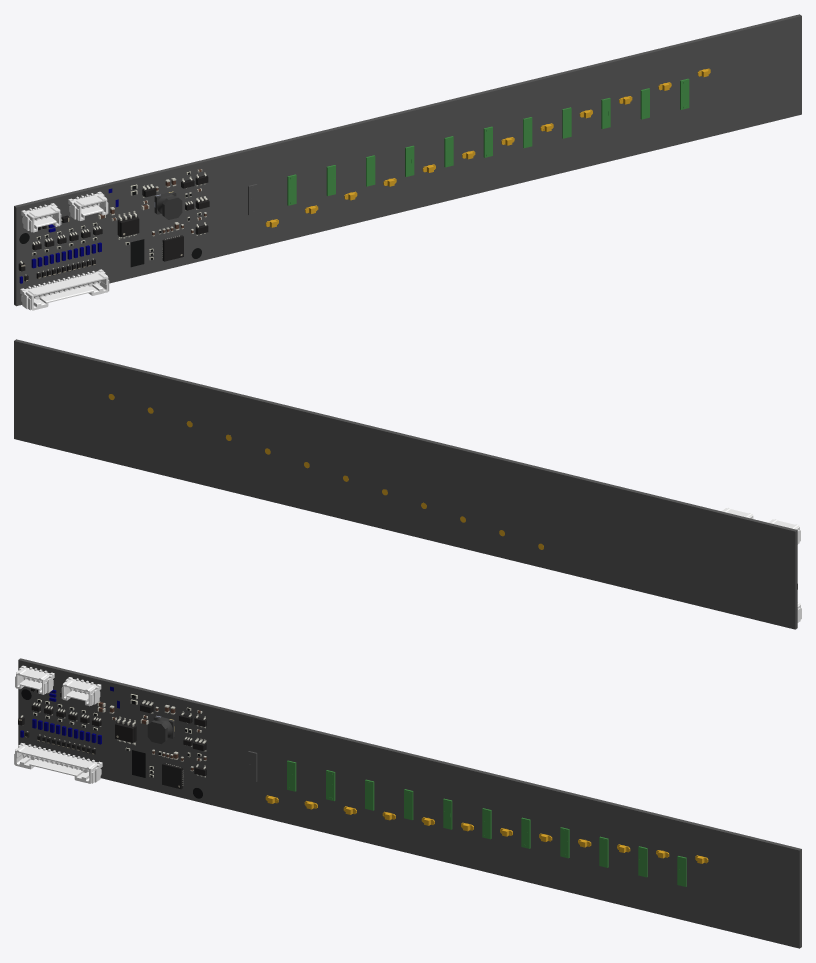
Rendered from BaseTemplateV4.fbx.
3 renders of one model, top to bottom at view 1: azimuth 30°, elevation 25°; view 2: azimuth 150°, elevation 25°; view 3: azimuth 330°, elevation 25°, orthographic.
Parts seen in each view (by area): view 1: Body1 (×5); view 2: Body1; view 3: Body1 (×5).
Part boxes in pixels (<box>): Body1 (×5): <box>14,14,801,310</box>; Body1: <box>14,339,797,629</box>; Body1 (×5): <box>14,658,801,948</box>.
Bounding box in the file's own units: 200 × 24 × 5.24.
